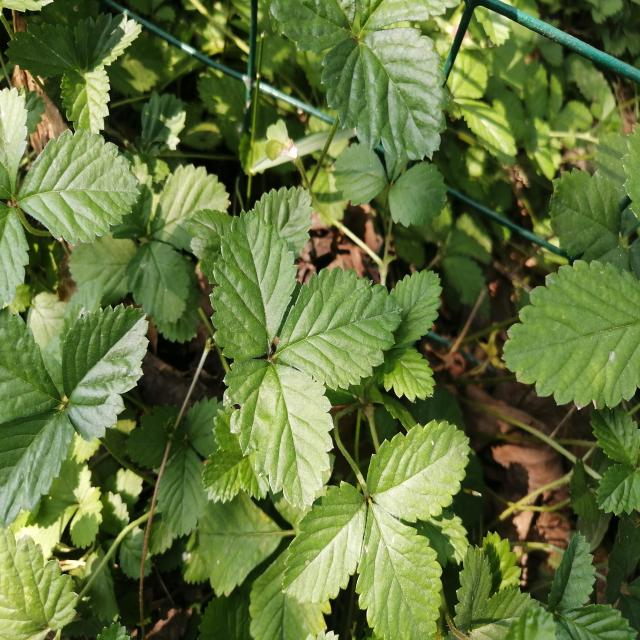Mock_strawberry: (189, 201, 379, 488), (286, 408, 484, 632)
